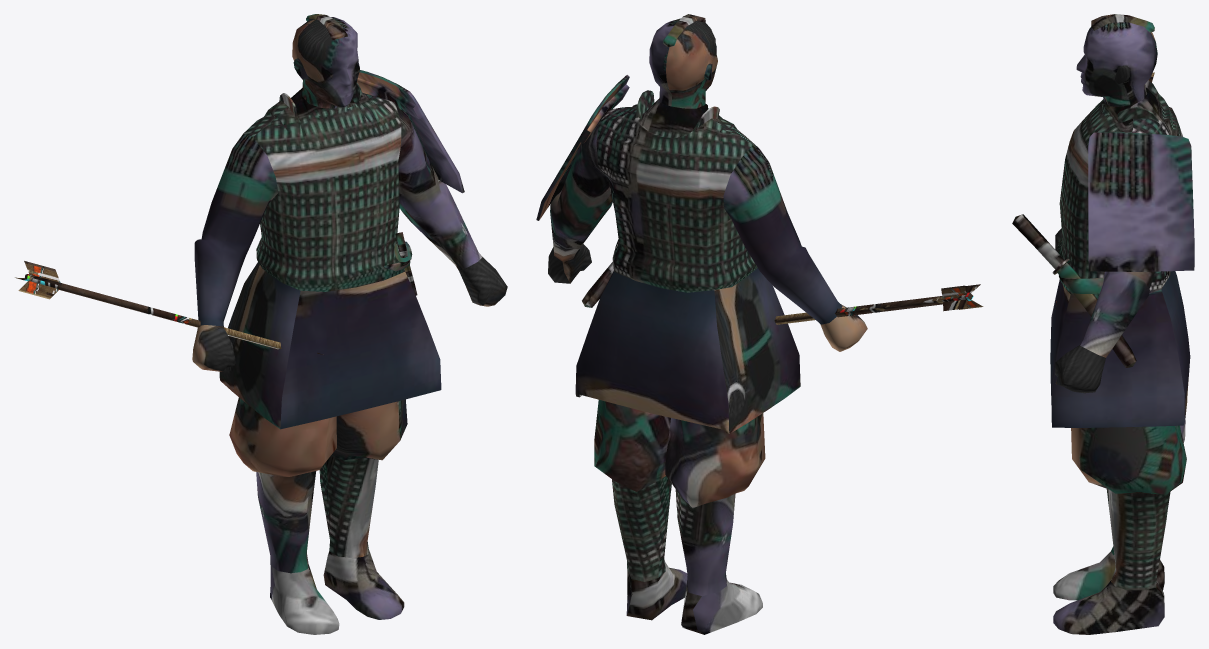
File: 140-bushi.glb
3 views of the same model, side by side, from view 1: azimuth 30°, elevation 25°; view 2: azimuth 150°, elevation 25°; view 3: azimuth 270°, elevation 25° (orthographic).
Bounding box in the file's own units: 1.7 × 2.08 × 0.5818.
Materials: 2 (2 with a texture image).
